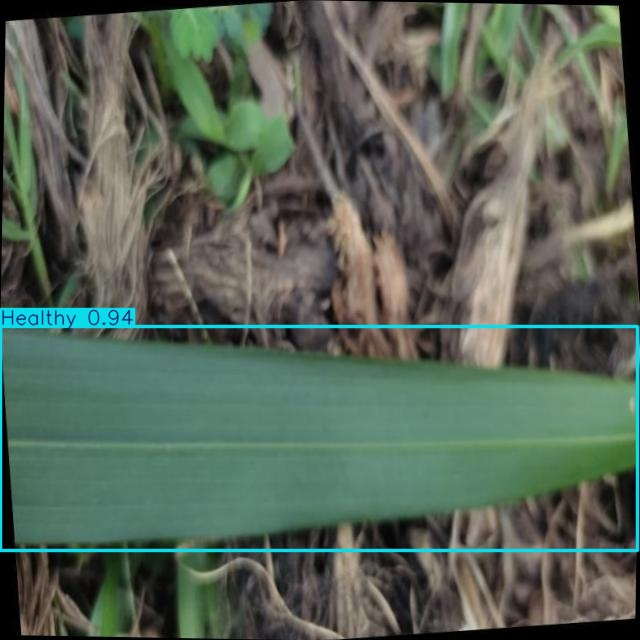Healthy: (1, 326, 638, 550)
